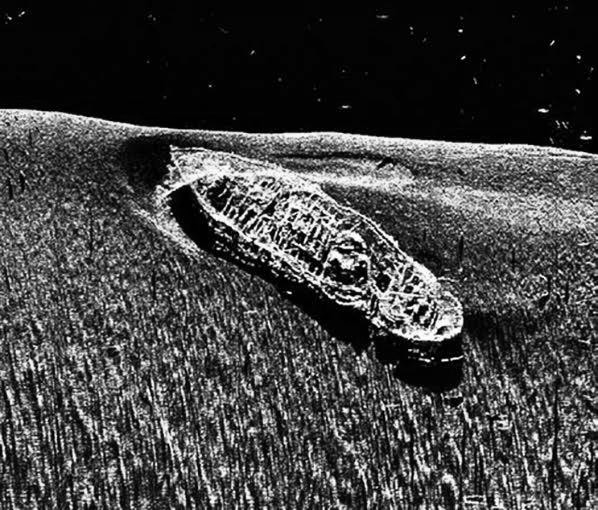ship: (166, 140, 464, 350)
